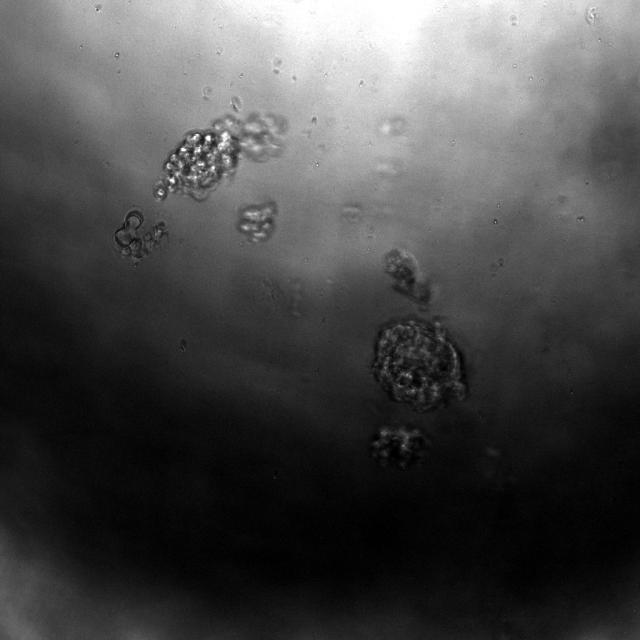organoid: (153, 113, 288, 200), (371, 319, 465, 412), (384, 248, 436, 308), (113, 210, 166, 267), (372, 426, 427, 468), (236, 202, 278, 242)
